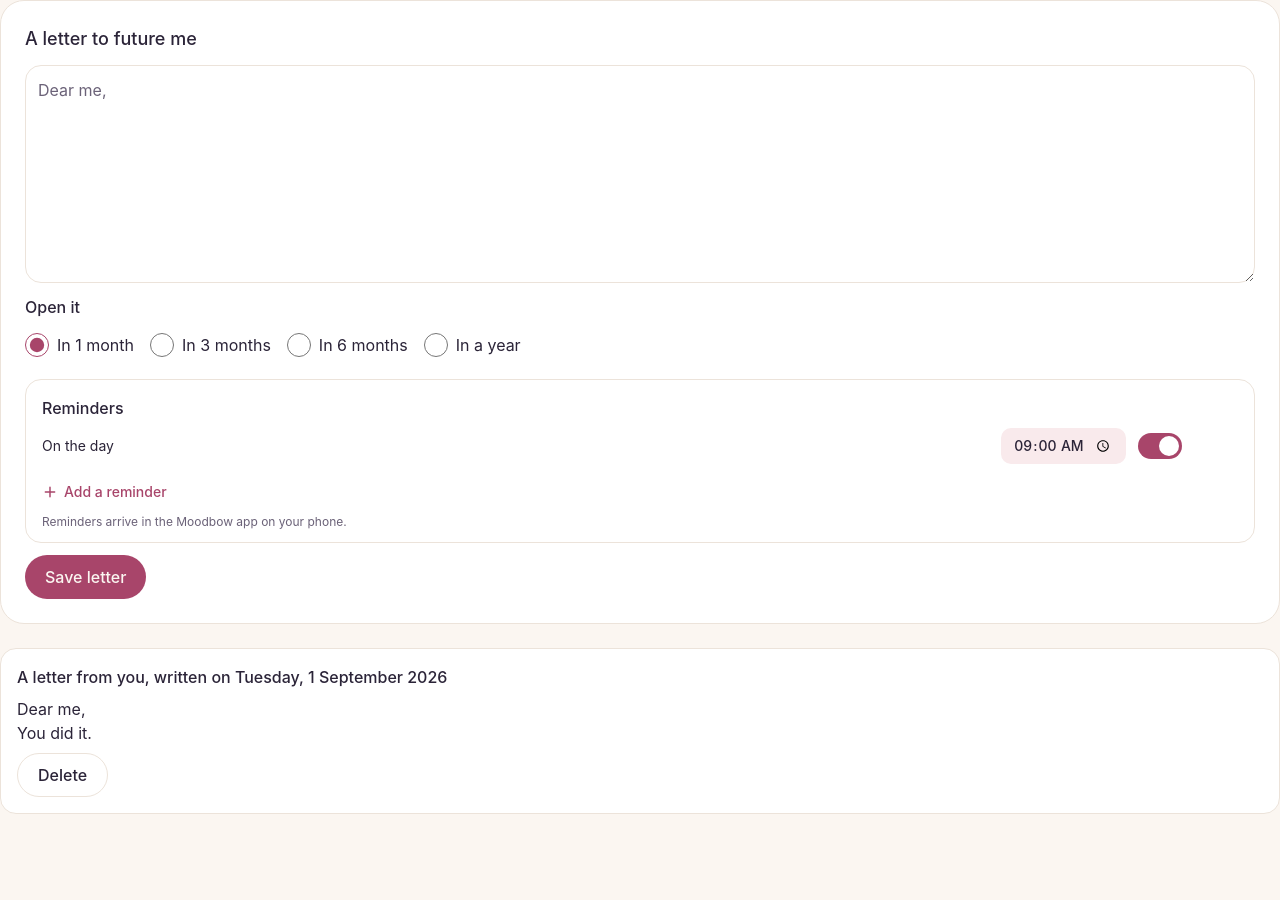
Test: LettersEditor › an opened letter: written on, and its text; Delete asks first
Expected: the text with test id "letter-body" shows "You did it.", [17,699,92,743]
Click the button with test id "letter-delete". click: (63, 775)
box: [17,753,108,797]
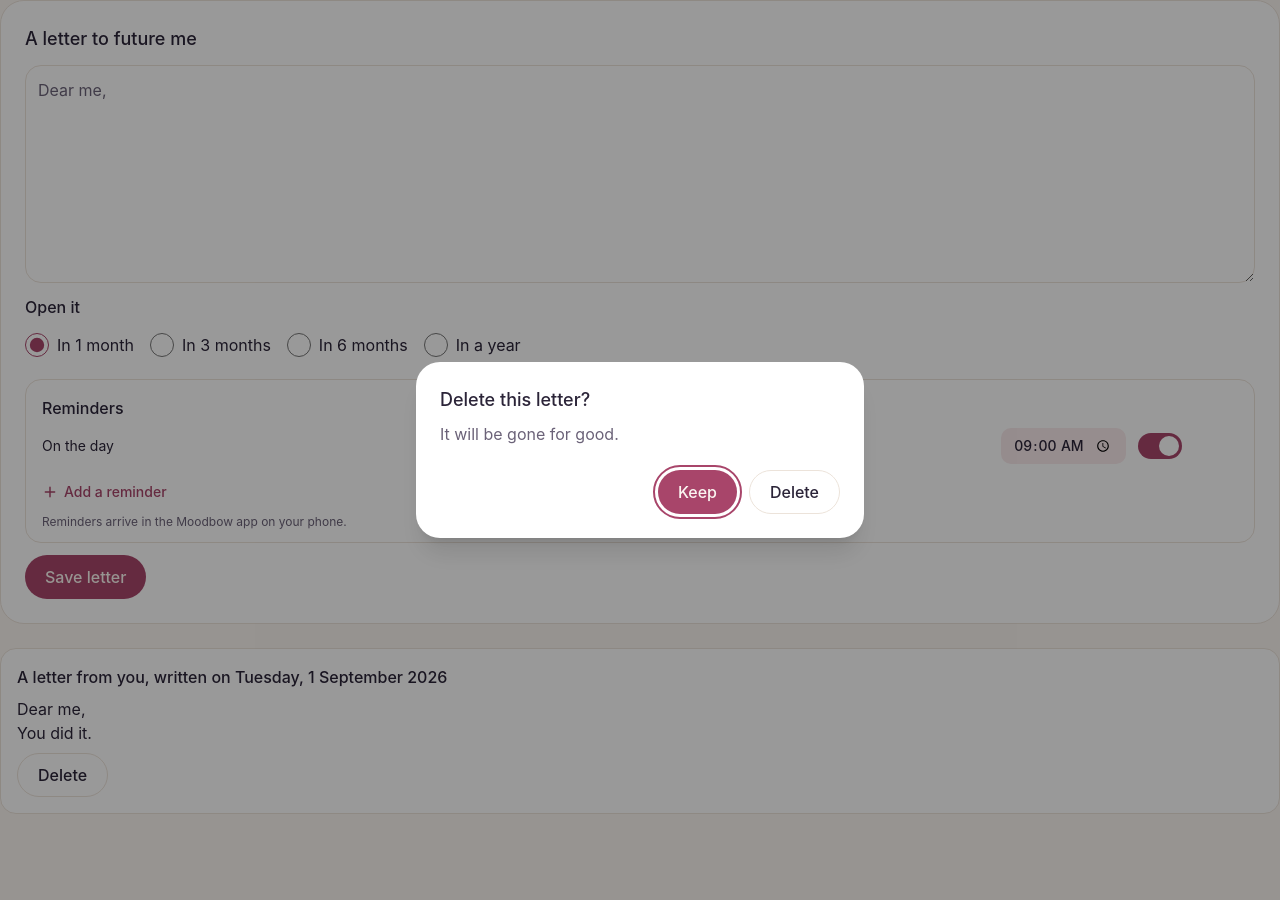
Expected: the dialog with test id "letter-delete-confirm" shows "It will be gone for good.", [440,424,619,444]
Click the button with test id "letter-delete-yes". click: (794, 492)
box: [749,470,840,514]
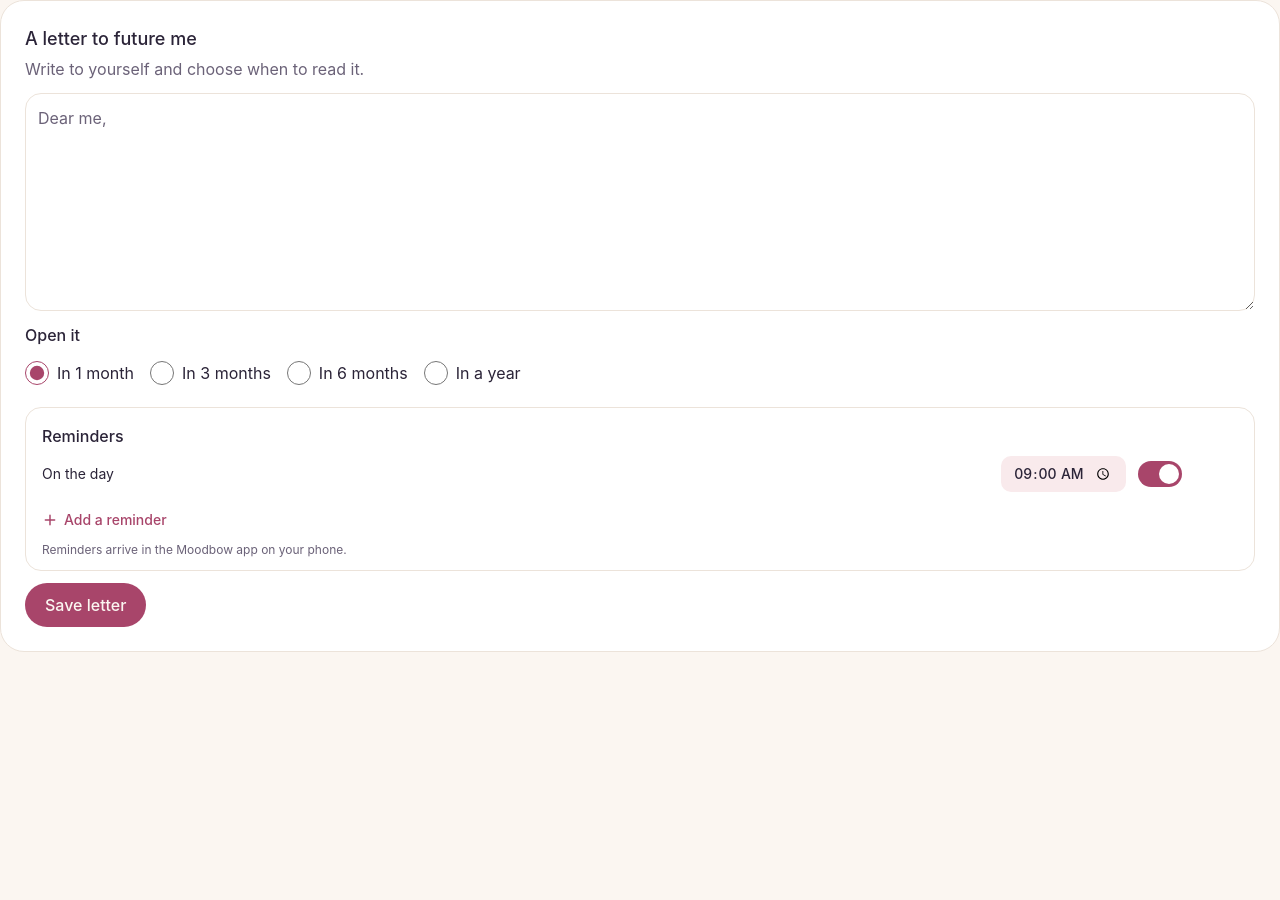
Expected: the list item with test id "letter" is gone
